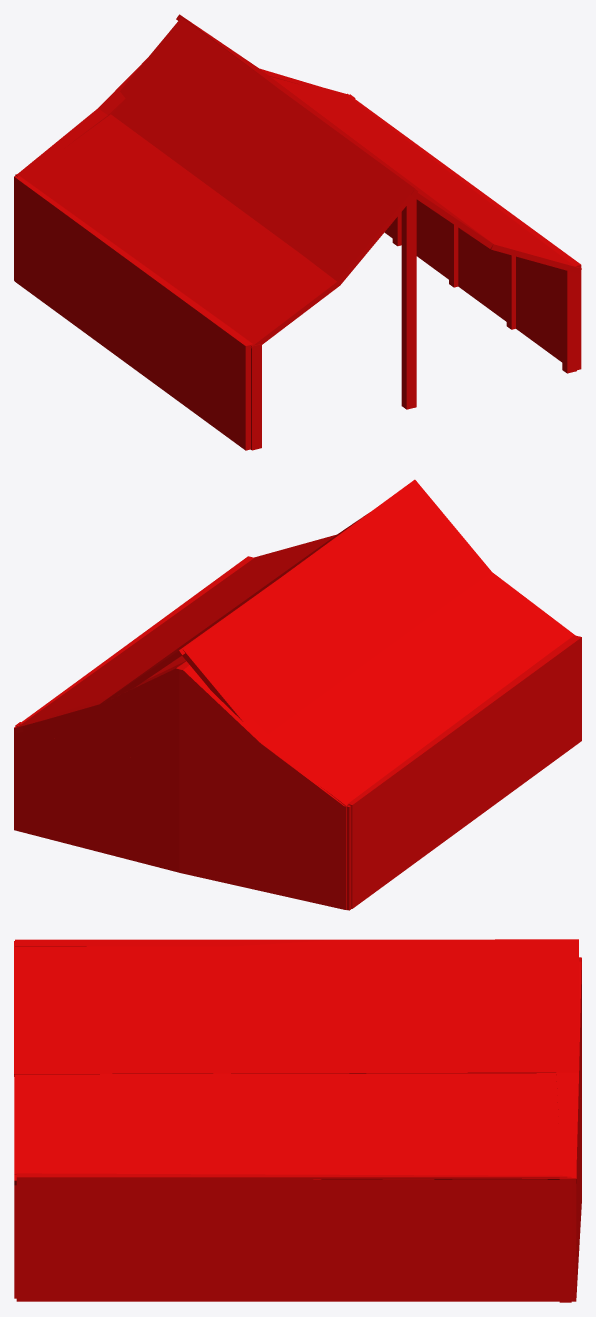
Rendered from SM_Bld_Military_Tent_03_Collision.fbx.
3 views of the same model, one above another, from view 1: azimuth 30°, elevation 25°; view 2: azimuth 150°, elevation 25°; view 3: azimuth 270°, elevation 25° (orthographic). The views are drawn at different scales.
Parts seen in each view (by area): view 1: SM_Bld_Military_Tent_03_Collision; view 2: SM_Bld_Military_Tent_03_Collision; view 3: SM_Bld_Military_Tent_03_Collision.
Boxes of the visible parts, x1,y1,x2,y2 form: SM_Bld_Military_Tent_03_Collision: (14, 14, 581, 450); SM_Bld_Military_Tent_03_Collision: (14, 479, 581, 910); SM_Bld_Military_Tent_03_Collision: (14, 939, 581, 1302).
Size of the model in its own units: 622 by 393 by 760.
